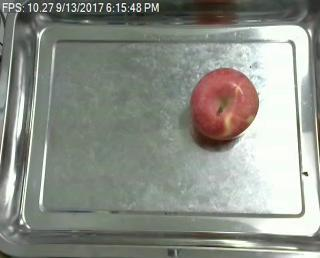apple: (190, 67, 259, 140)
